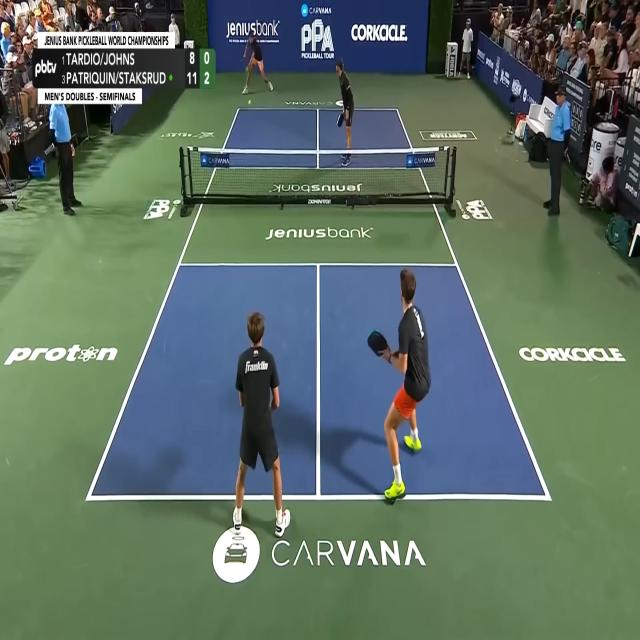ball: (248, 99, 251, 105)
